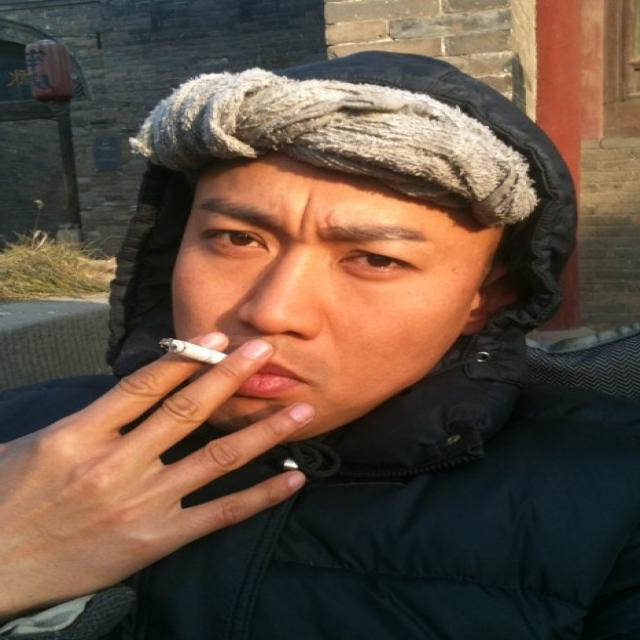smoking: (151, 329, 274, 375)
